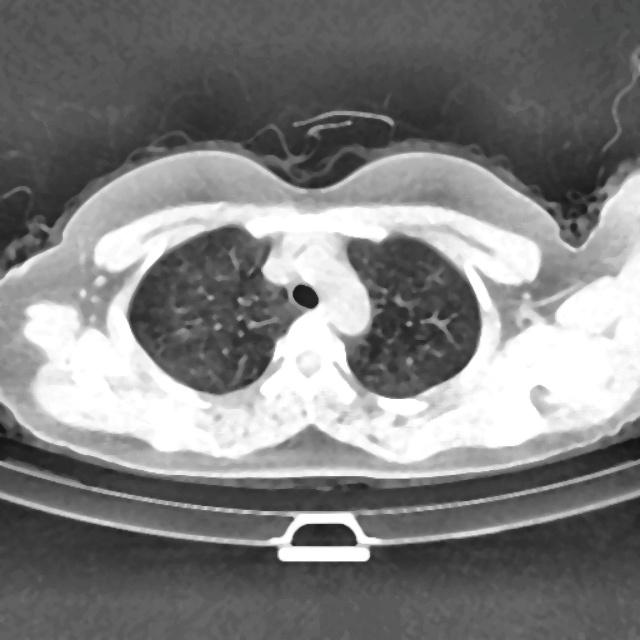covid: (0, 117, 638, 490)
